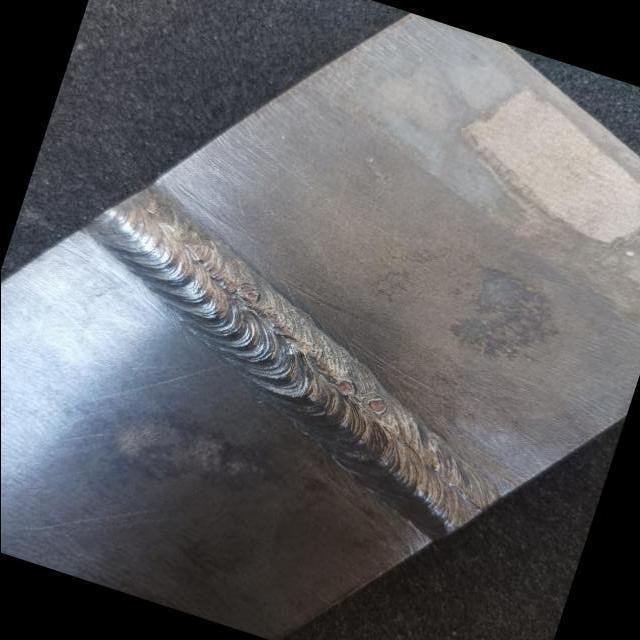defect: (364, 393, 388, 417), (332, 375, 357, 397), (236, 283, 262, 301), (263, 310, 285, 328), (304, 343, 323, 359)
